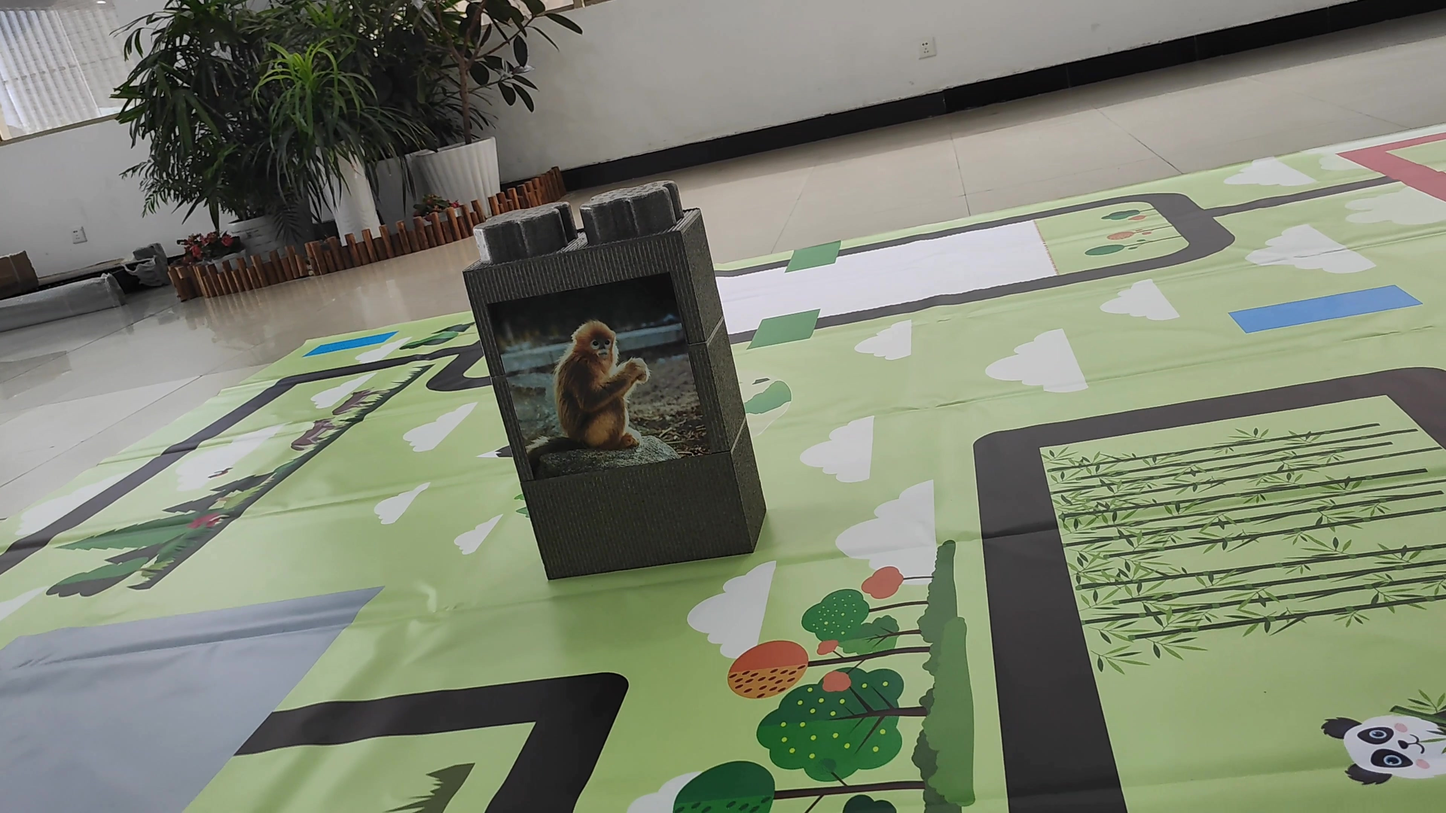monkey: (514, 282, 705, 493)
